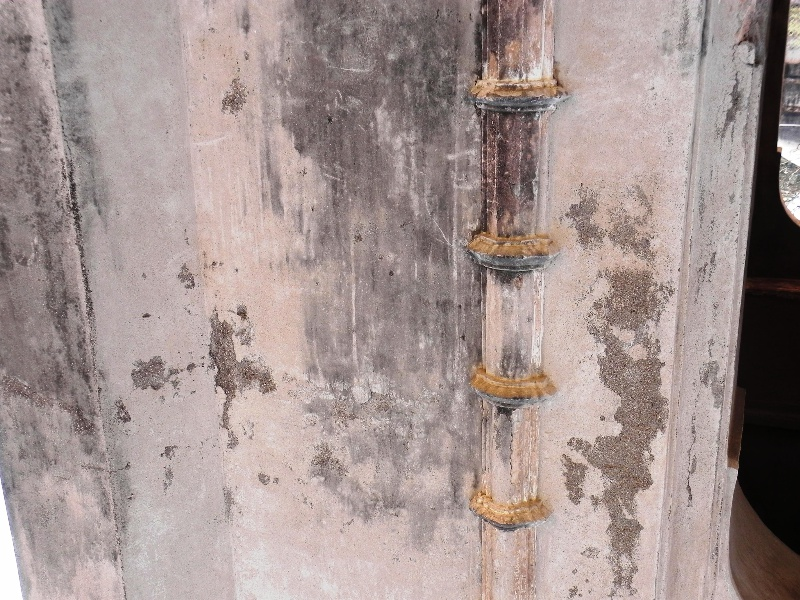Spalling: (574, 193, 663, 580), (196, 294, 280, 437), (128, 351, 174, 403)
